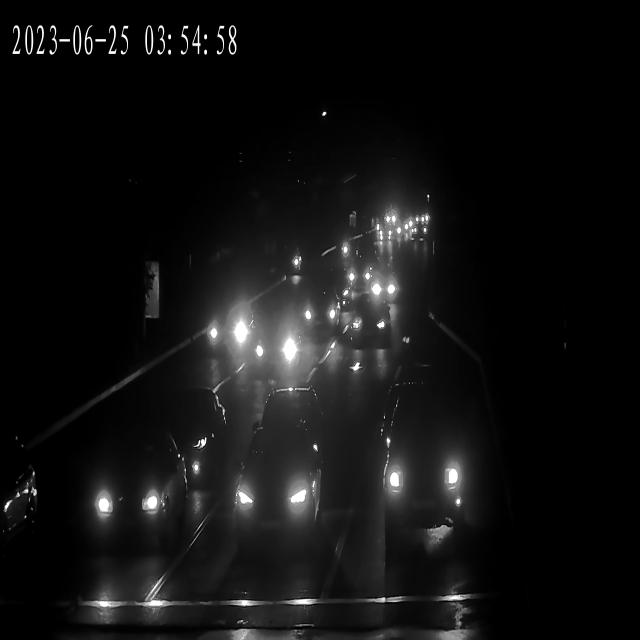Car: (67, 431, 188, 553), (371, 408, 478, 530), (224, 439, 319, 550), (0, 434, 41, 550), (167, 427, 234, 495), (246, 328, 306, 378), (292, 287, 343, 335), (206, 310, 255, 355), (346, 305, 393, 350), (340, 237, 375, 271), (366, 271, 398, 304), (346, 253, 376, 287), (339, 236, 373, 262), (344, 260, 374, 288), (373, 216, 396, 232), (372, 223, 392, 240), (409, 222, 429, 238), (409, 226, 429, 241), (379, 213, 400, 226), (374, 228, 393, 242)
